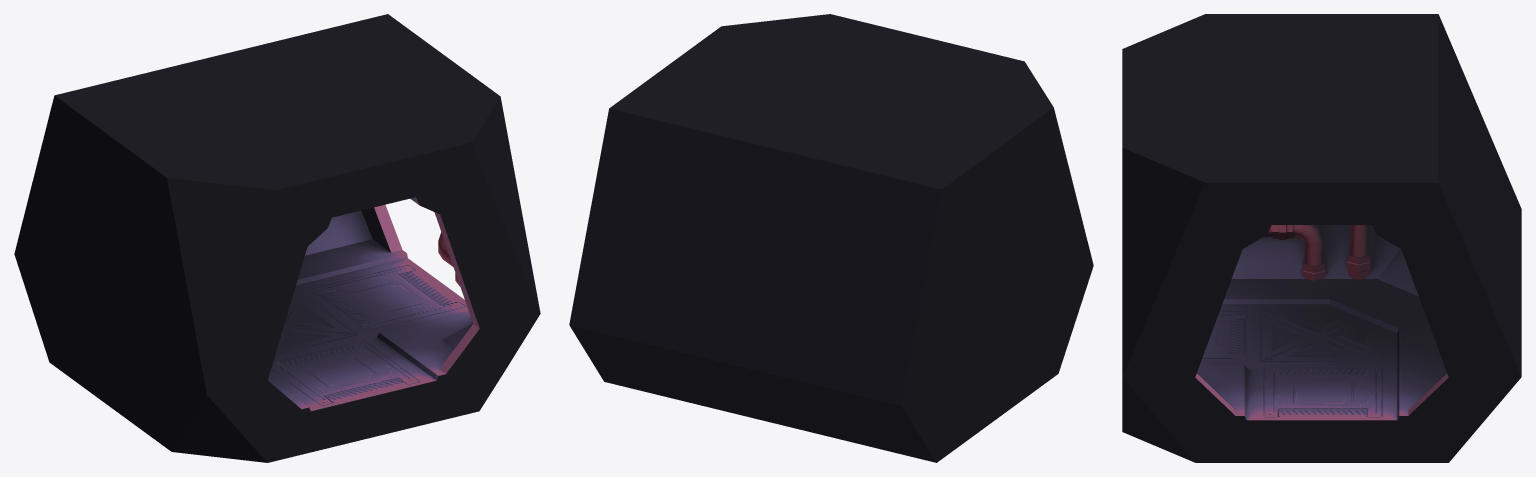
File: mod_Corner.glb
The picture shows the model from 3 angles, left to right: view 1: azimuth 30°, elevation 25°; view 2: azimuth 150°, elevation 25°; view 3: azimuth 270°, elevation 25°; orthographic projection. The views are drawn at different scales.
Visible parts, largest first — view 1: Corner; view 2: Corner; view 3: Corner.
Part boxes in pixels (box(x1,y1,x2,y2)): Corner: box(14, 14, 540, 462); Corner: box(569, 14, 1093, 462); Corner: box(1122, 14, 1521, 462).
Size of the model in its own units: 5 by 3.88 by 5.
Materials: 2 (2 with a texture image).
